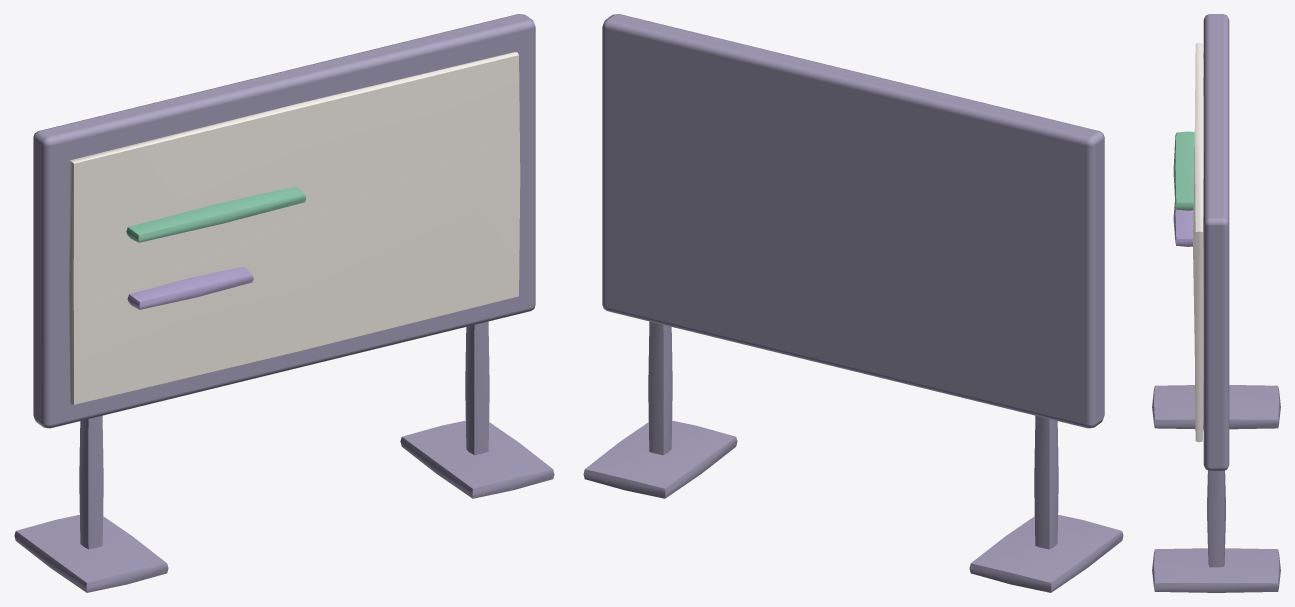
The model's file is whiteboard.glb.
The picture shows the model from 3 angles, left to right: view 1: azimuth 30°, elevation 25°; view 2: azimuth 150°, elevation 25°; view 3: azimuth 270°, elevation 25°; orthographic projection. The views are drawn at different scales.
Parts seen in each view (by area): view 1: part (×8); view 2: part (×5); view 3: part (×7).
Part boxes in pixels (x1,y1,x2,y2): part (×8): [14, 14, 554, 592]; part (×5): [583, 14, 1123, 592]; part (×7): [1152, 14, 1280, 592].
Size of the model in its own units: 2.3 by 1.95 by 0.6.
Materials: 1 (1 with a texture image).
